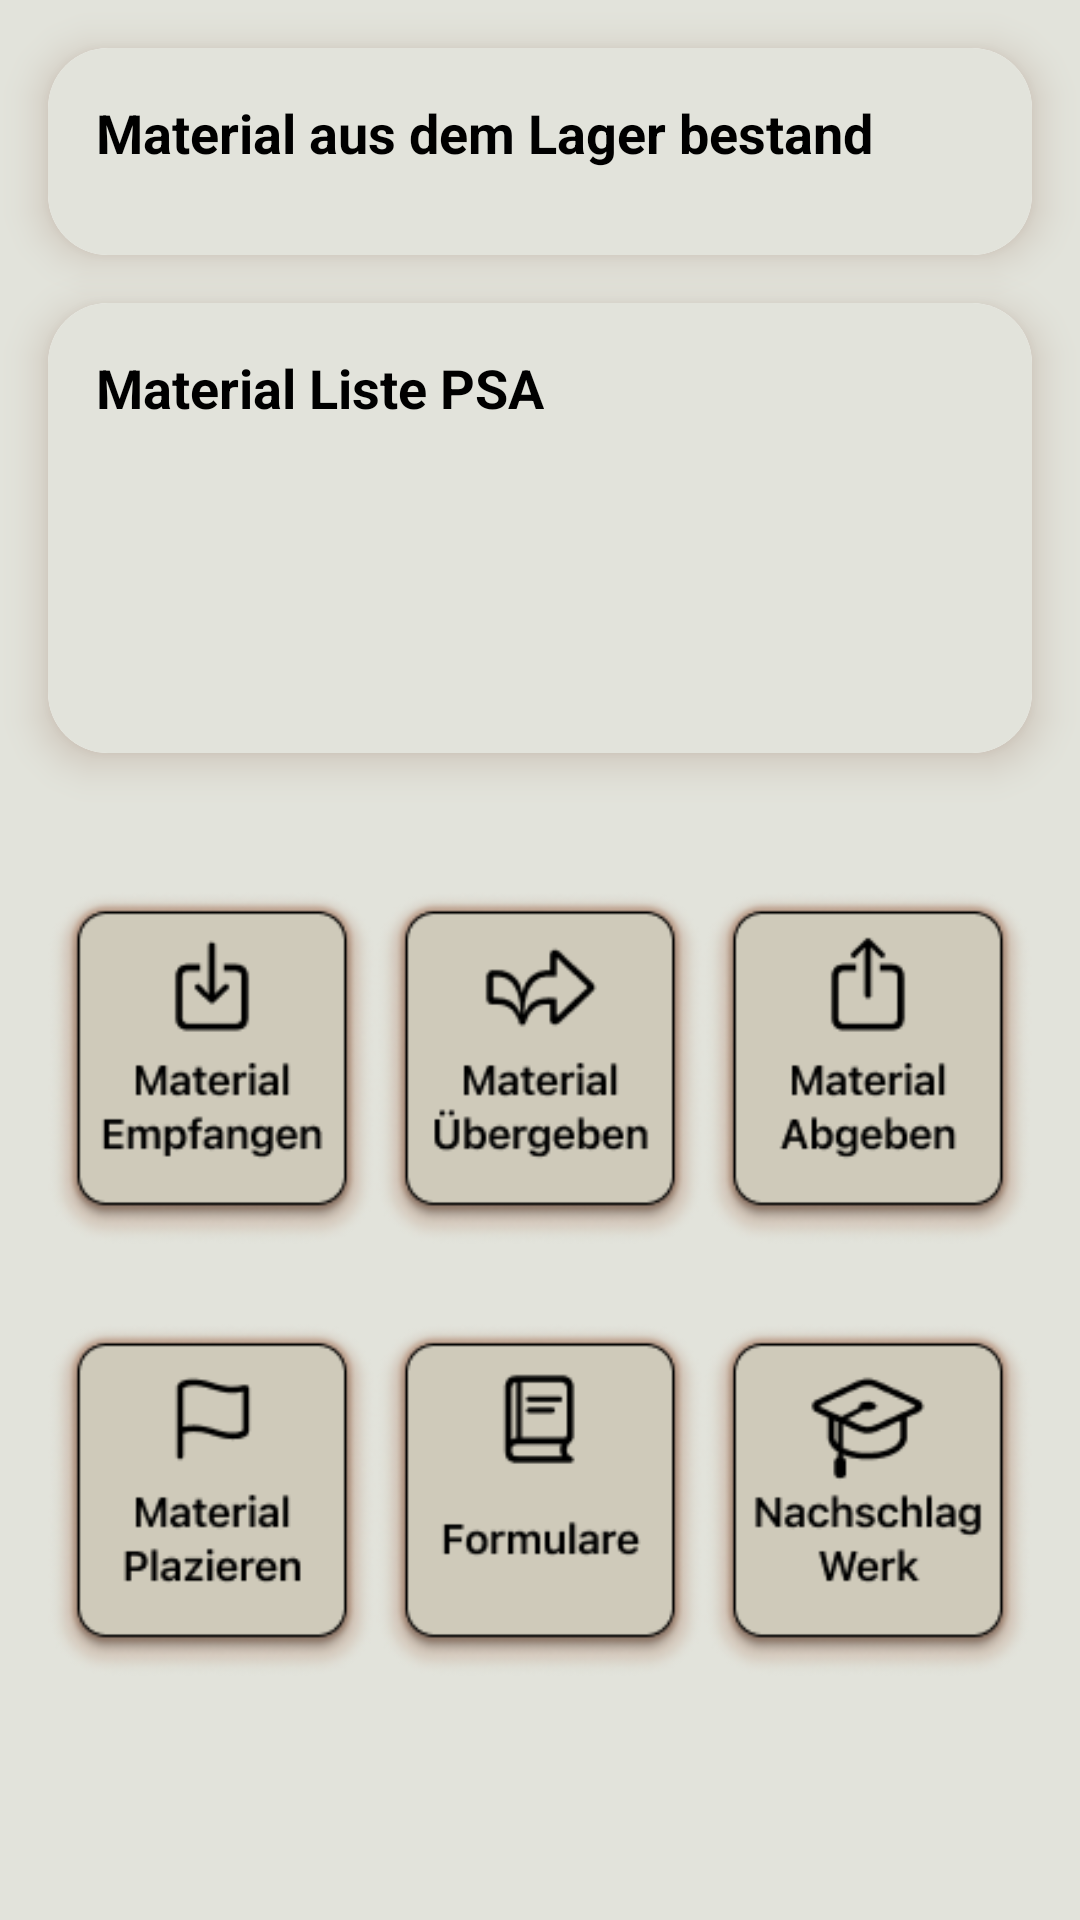

Where icons sit on this 1080 × 1920 app screen, as bbox=[x1, y1, x2, y2]:
learn: bbox=[721, 1336, 1015, 1658]
